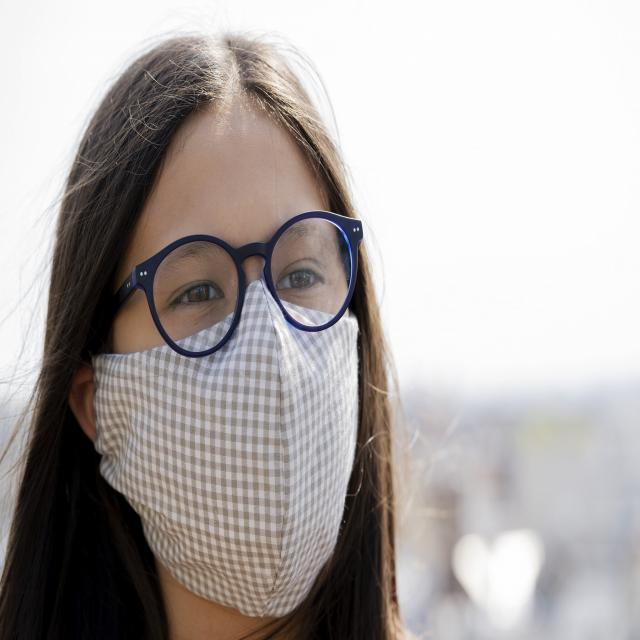Glasses: (110, 208, 364, 360)
